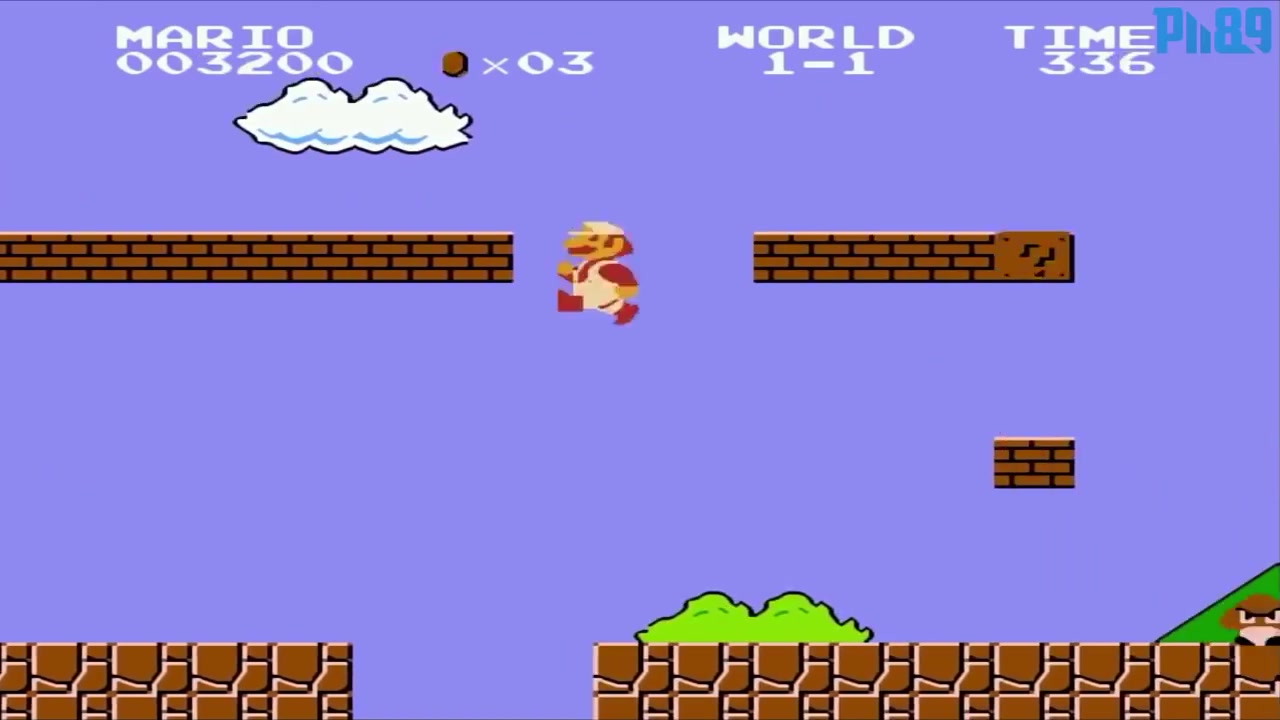mario: (551, 205, 640, 326)
